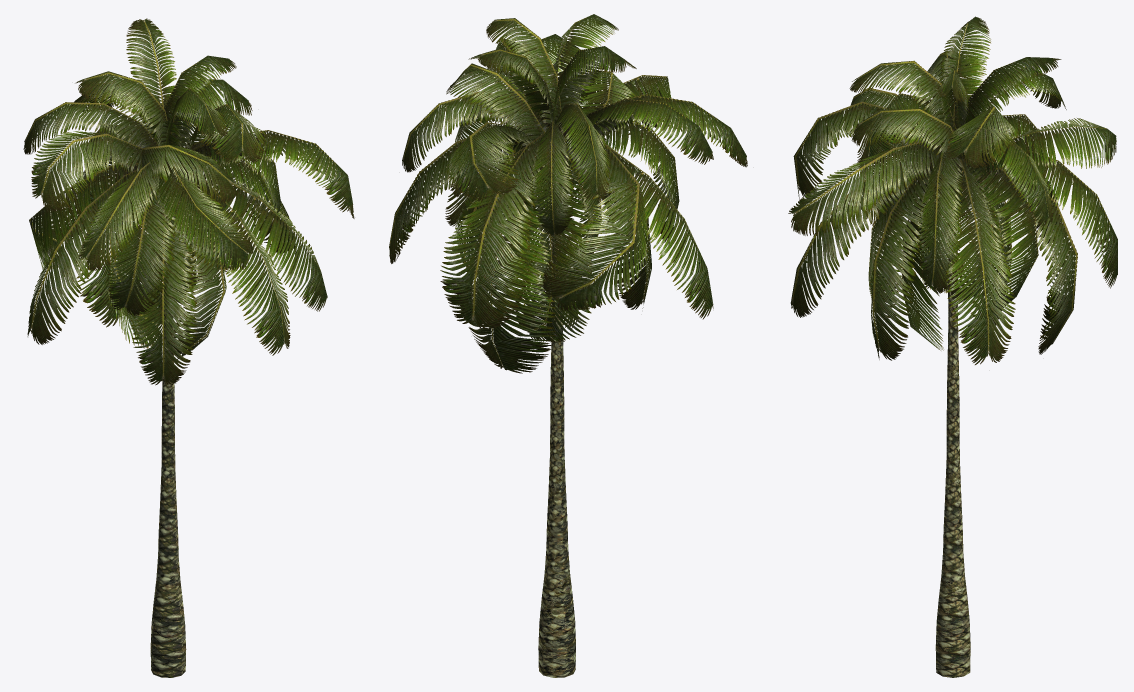
File: la-palm-coconut.glb
3 renders of one model, left to right at view 1: azimuth 30°, elevation 25°; view 2: azimuth 150°, elevation 25°; view 3: azimuth 270°, elevation 25°, orthographic. The views are drawn at different scales.
Parts seen in each view (by area): view 1: palm; view 2: palm; view 3: palm.
Part boxes in pixels (bbox=[...]): palm: bbox=[23, 18, 354, 677]; palm: bbox=[389, 14, 747, 677]; palm: bbox=[788, 16, 1117, 677].
Bounding box in the file's own units: 5.2 × 10.5 × 5.13.
Materials: 1 (1 with a texture image).
